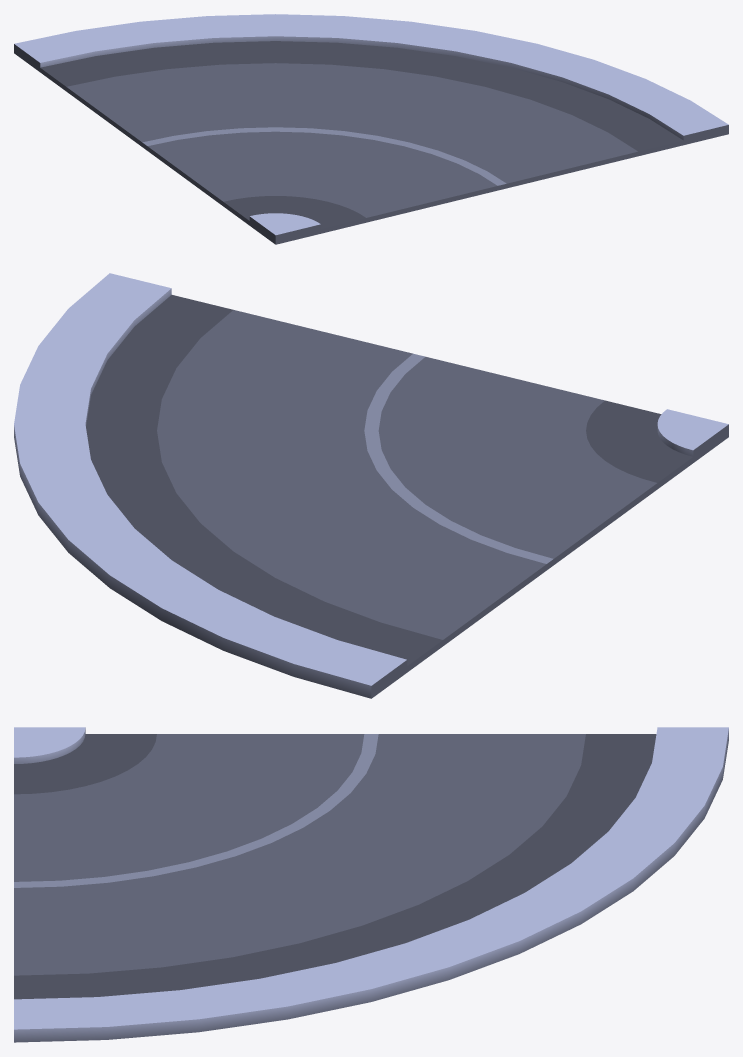
The model's file is road-bend.glb.
3 views of the same model, one above another, from view 1: azimuth 30°, elevation 25°; view 2: azimuth 150°, elevation 25°; view 3: azimuth 270°, elevation 25° (orthographic). The views are drawn at different scales.
Visible parts, largest first — view 1: road-bend; view 2: road-bend; view 3: road-bend.
Boxes of the visible parts, x1,y1,x2,y2 form: road-bend: (14, 14, 728, 244); road-bend: (14, 273, 728, 698); road-bend: (14, 727, 728, 1042).
Size of the model in its own units: 1 by 0.02 by 1.
1 material, 1 textured.
